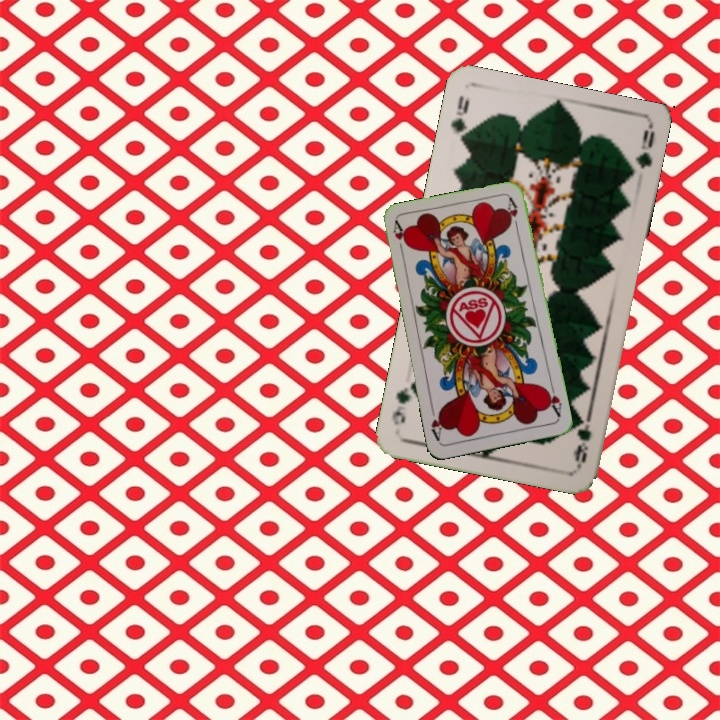G9: (446, 91, 472, 150), (570, 410, 594, 469)
HA: (541, 379, 565, 420), (389, 218, 410, 258)
